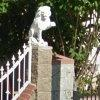Statue: (24, 2, 73, 56)
